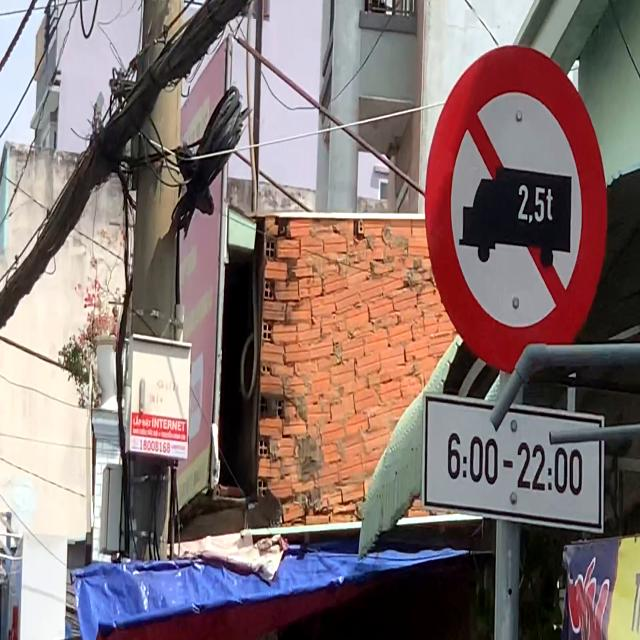P.106b: (412, 42, 606, 381)
